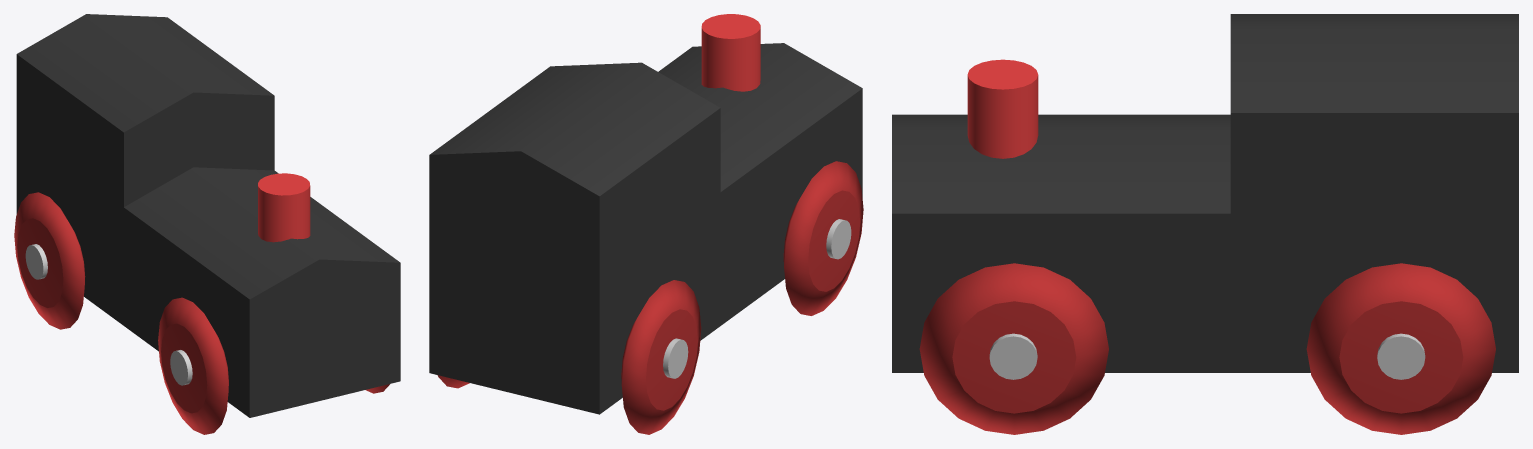
Rendered from Train_Model_V01.fbx.
3 renders of one model, left to right at view 1: azimuth 30°, elevation 25°; view 2: azimuth 150°, elevation 25°; view 3: azimuth 270°, elevation 25°, orthographic. The views are drawn at different scales.
Parts seen in each view (by area): view 1: MainBody, Wheel3, Wheel4, Pipe, Rim4, Rim3; view 2: MainBody, Wheel4, Wheel3, Pipe, Rim3, Rim4; view 3: MainBody, Wheel1, Wheel2, Pipe, Rim1, Rim2.
Part boxes in pixels (bbox=[...]): MainBody: bbox=[16, 14, 400, 417]; Wheel3: bbox=[158, 297, 228, 434]; Wheel4: bbox=[14, 192, 85, 329]; Pipe: bbox=[258, 173, 310, 242]; Rim4: bbox=[170, 350, 192, 385]; Rim3: bbox=[25, 244, 47, 279]; MainBody: bbox=[429, 43, 862, 414]; Wheel4: bbox=[621, 280, 701, 434]; Wheel3: bbox=[783, 161, 863, 315]; Pipe: bbox=[701, 14, 760, 91]; Rim3: bbox=[663, 338, 688, 378]; Rim4: bbox=[826, 219, 851, 259]; MainBody: bbox=[892, 14, 1518, 372]; Wheel1: bbox=[919, 263, 1108, 434]; Wheel2: bbox=[1306, 263, 1495, 434]; Pipe: bbox=[967, 59, 1038, 158]; Rim1: bbox=[989, 333, 1037, 379]; Rim2: bbox=[1377, 333, 1425, 379].
Size of the model in its own units: 23.91 by 29.28 by 47.77.
